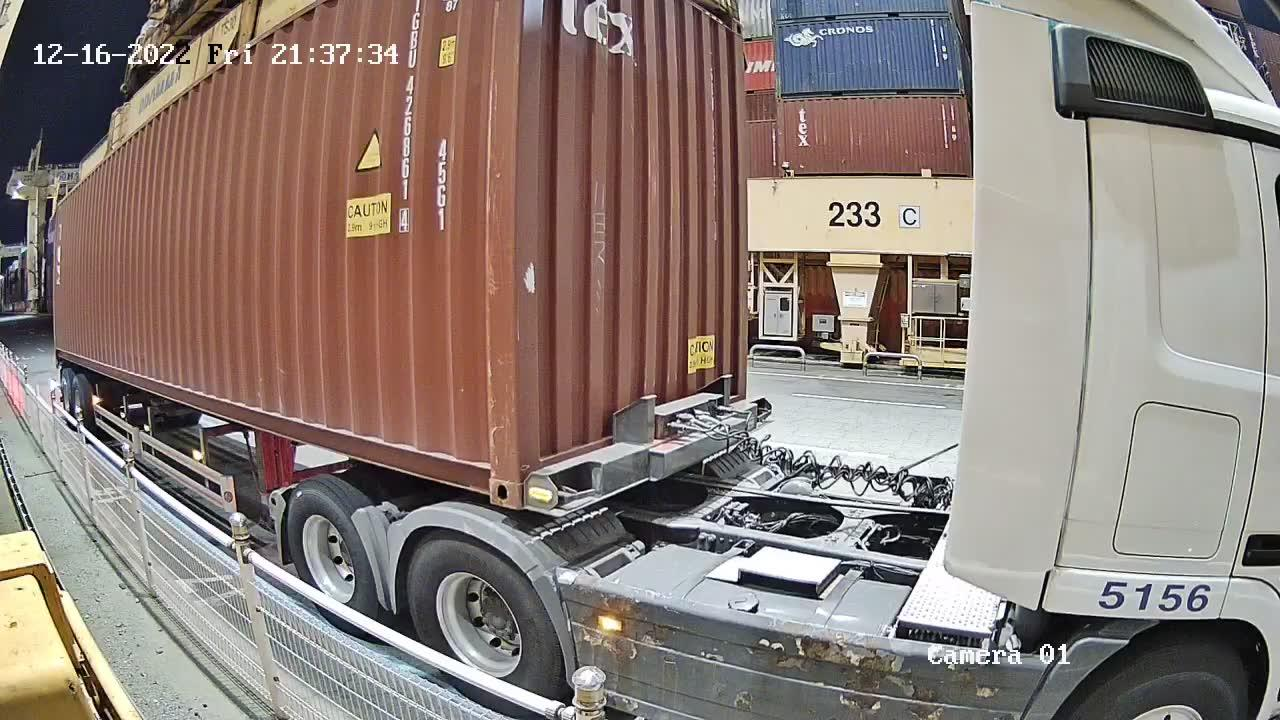Chassis: (534, 396, 776, 516)
Hole_R: (457, 429, 522, 512)
Tire: (405, 532, 561, 697), (287, 481, 377, 620)
